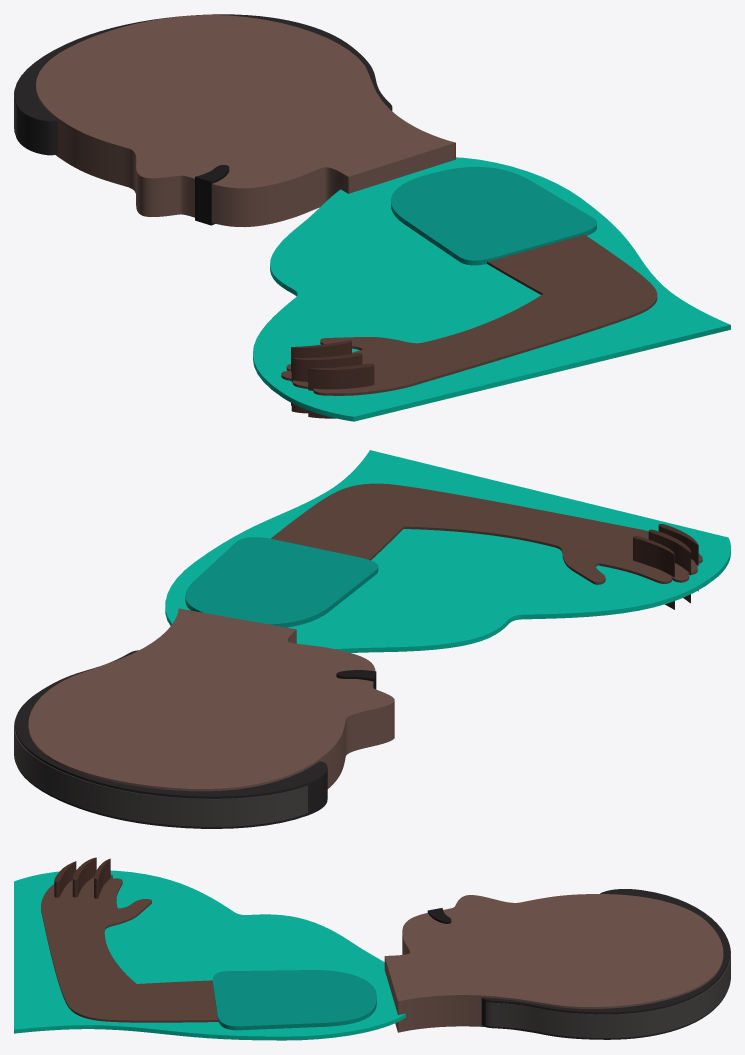
File: emoji_u1fac3_1f3ff.glb
3 views of the same model, one above another, from view 1: azimuth 30°, elevation 25°; view 2: azimuth 150°, elevation 25°; view 3: azimuth 270°, elevation 25° (orthographic). The views are drawn at different scales.
Visible parts, largest first — view 1: emoji_u1fac3_1f3ff; view 2: emoji_u1fac3_1f3ff; view 3: emoji_u1fac3_1f3ff.
Part boxes in pixels (<box>): emoji_u1fac3_1f3ff: <box>14,14,730,421</box>; emoji_u1fac3_1f3ff: <box>14,450,730,828</box>; emoji_u1fac3_1f3ff: <box>14,857,730,1040</box>.
Size of the model in its own units: 0.0182 by 0.0024 by 0.0332.
